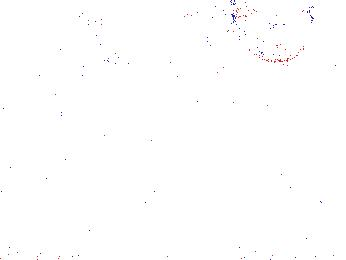moon jellyfish: (1, 1, 90, 96), (100, 1, 208, 60), (175, 1, 236, 91), (233, 8, 313, 63)
